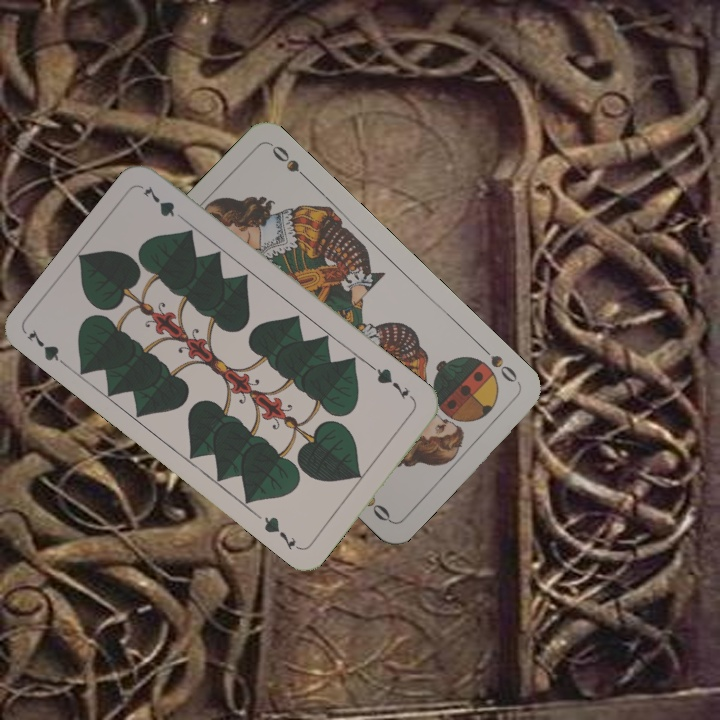G7: (23, 325, 73, 373), (368, 362, 412, 402)
SO: (477, 342, 523, 388)
